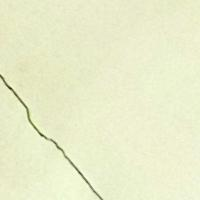crack: (0, 60, 108, 199)
